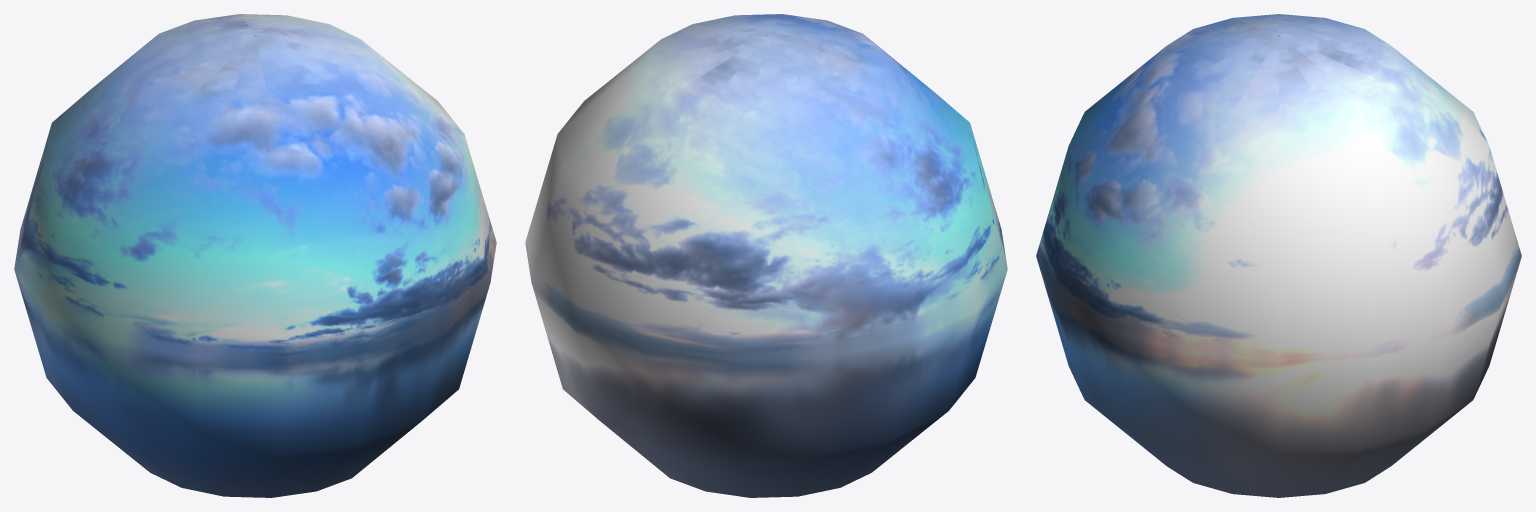
The model's file is MapSkyBox.gltf.
The picture shows the model from 3 angles, left to right: view 1: azimuth 30°, elevation 25°; view 2: azimuth 150°, elevation 25°; view 3: azimuth 270°, elevation 25°; orthographic projection.
Visible parts, largest first — view 1: Map; view 2: Map; view 3: Map.
Part boxes in pixels (x1,y1,x2,y2): Map: (14, 14, 496, 497); Map: (525, 14, 1007, 497); Map: (1036, 14, 1521, 497).
Size of the model in its own units: 480 by 480 by 480.
1 material, 1 textured.
